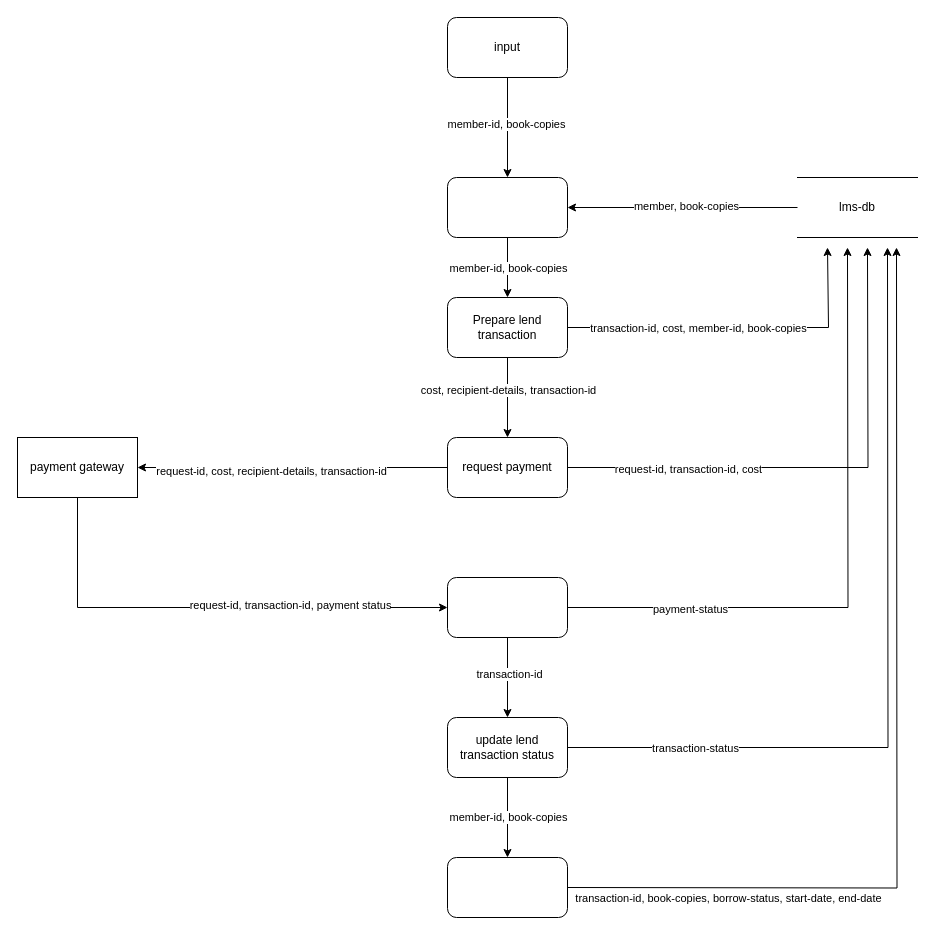
The diagram is 935 pixels wide and 935 high, and some of its shapes have lost their labels. Here are the shapes that lost their labels. From the top down, the centre of each, then its label:
the point at 507,207: check member and book copies exist
the point at 507,607: update payment status
the point at 507,887: update member's borrowed books
